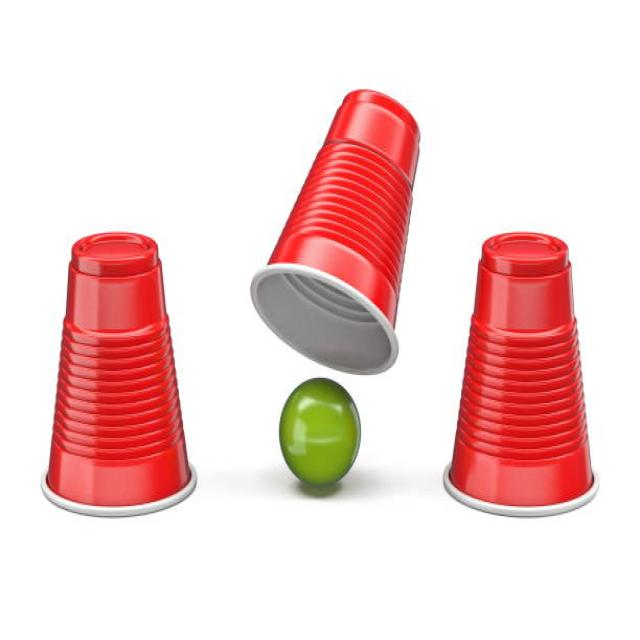Red_cup: (251, 91, 419, 373), (42, 233, 196, 515), (445, 233, 598, 515)
